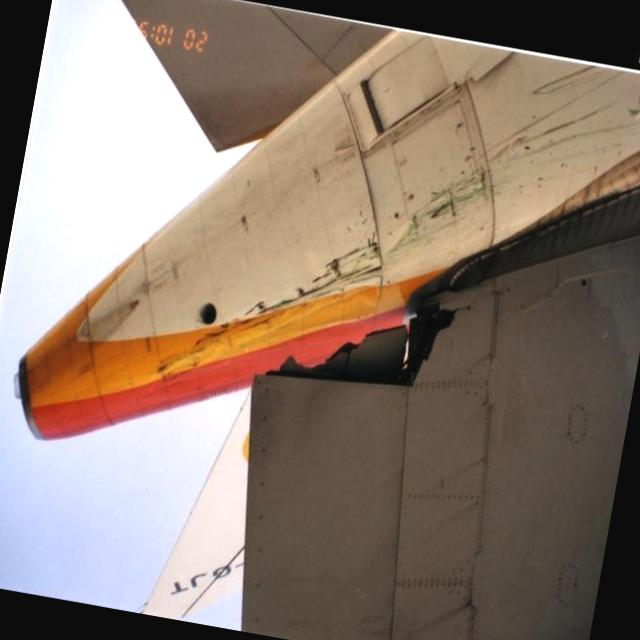crack: (260, 262, 480, 412)
